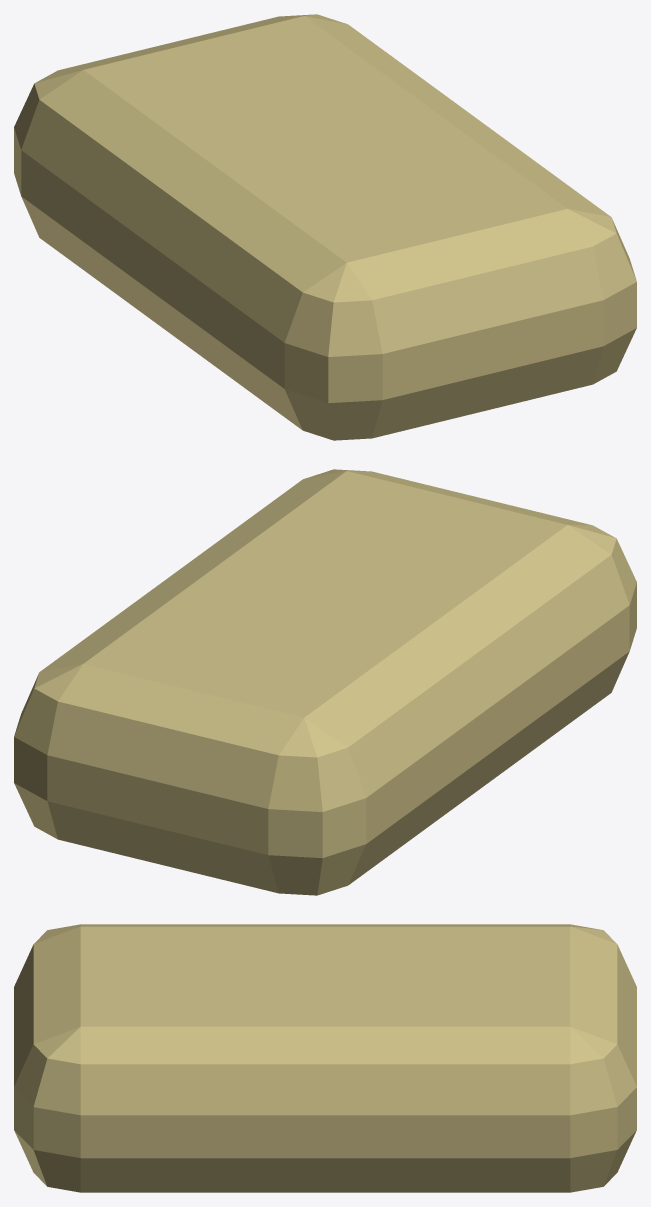
File: bag.fbx
3 views of the same model, one above another, from view 1: azimuth 30°, elevation 25°; view 2: azimuth 150°, elevation 25°; view 3: azimuth 270°, elevation 25° (orthographic). The views are drawn at different scales.
Parts seen in each view (by area): view 1: Cube_8; view 2: Cube_8; view 3: Cube_8.
Part boxes in pixels (x1,y1,x2,y2): Cube_8: (14, 14, 636, 440); Cube_8: (14, 469, 636, 895); Cube_8: (14, 924, 636, 1192).
Size of the model in its own units: 55.5 by 27.07 by 93.35.
